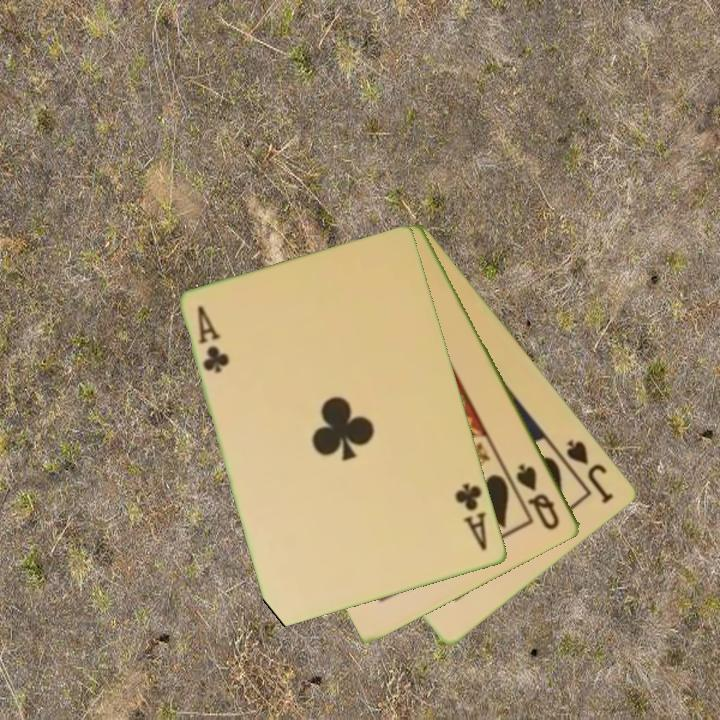Ac: (194, 302, 233, 377), (452, 480, 491, 554)
Js: (563, 435, 617, 507)
Qs: (513, 460, 563, 534)
